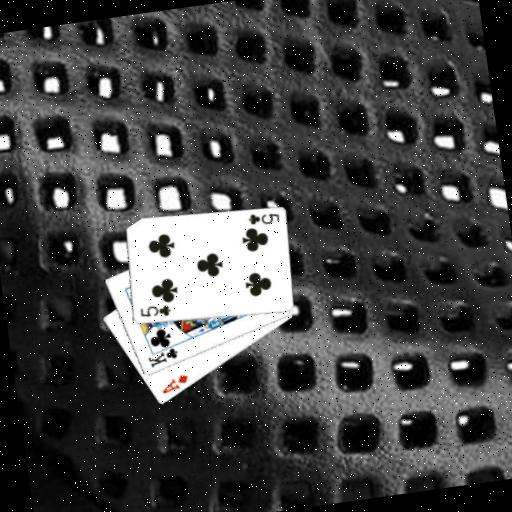5C: (244, 208, 281, 229), (136, 301, 173, 321)
AD: (157, 371, 192, 396)
KC: (143, 340, 182, 370)
